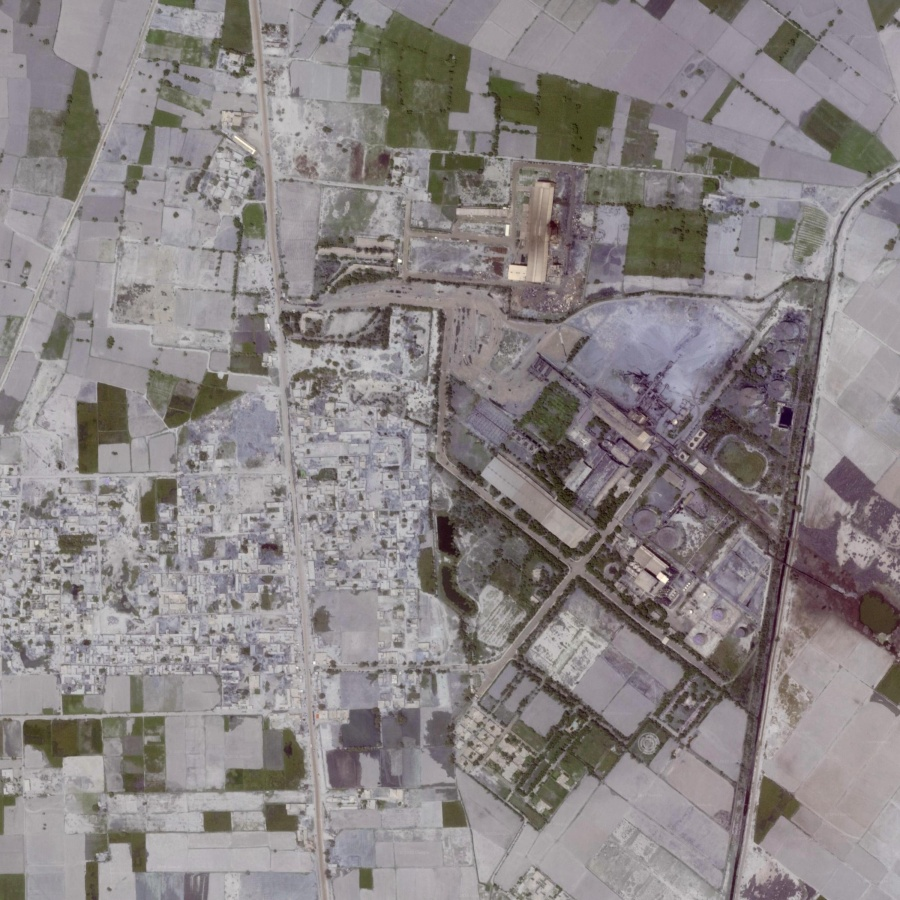PowerPlant: (579, 436, 769, 654)
